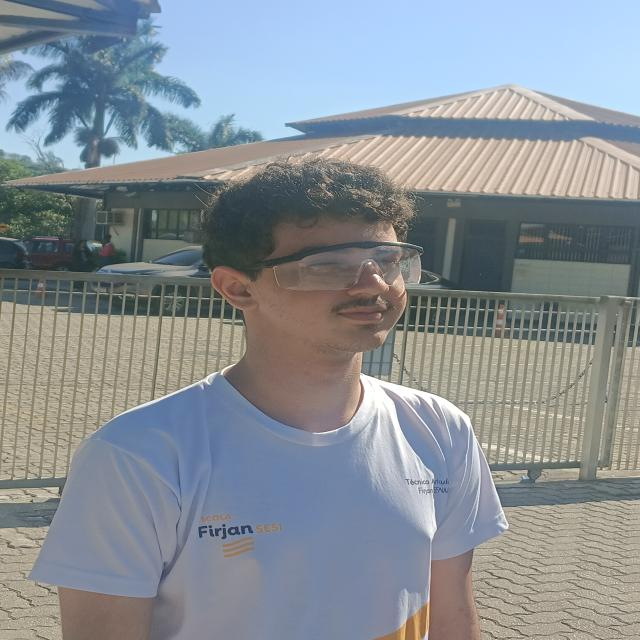oculos-epi: (239, 242, 421, 291)
